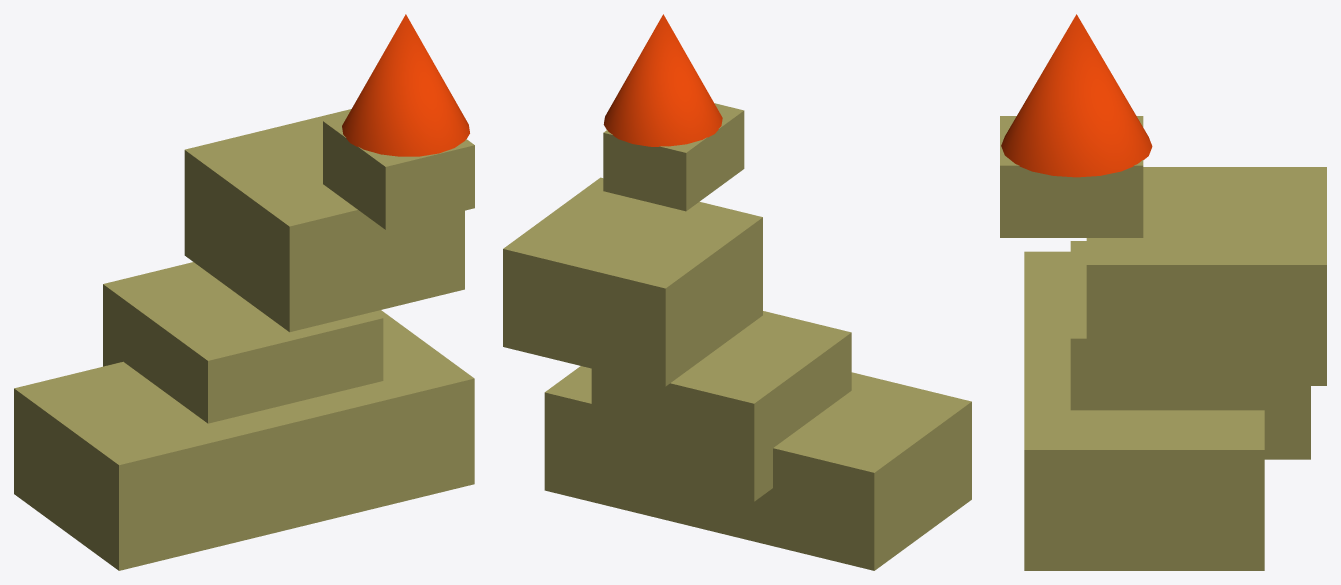
The model's file is Tumiki.fbx.
3 views of the same model, side by side, from view 1: azimuth 30°, elevation 25°; view 2: azimuth 150°, elevation 25°; view 3: azimuth 270°, elevation 25° (orthographic). The views are drawn at different scales.
Parts seen in each view (by area): view 1: pCone2; view 2: pCone2; view 3: pCone2.
Boxes of the visible parts, <box> form: pCone2: <box>14,14,474,570</box>; pCone2: <box>503,14,971,570</box>; pCone2: <box>1000,14,1326,570</box>.
Bounding box in the file's own units: 6.38 × 7.59 × 4.23.
